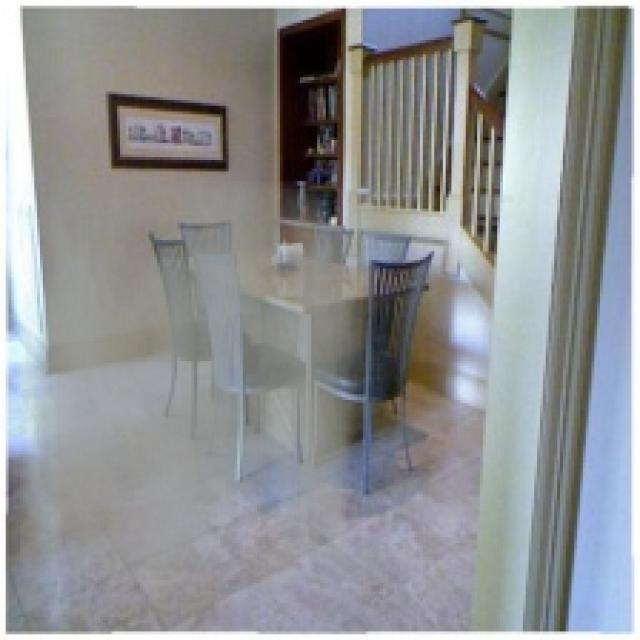Smoke: (19, 180, 374, 583)
